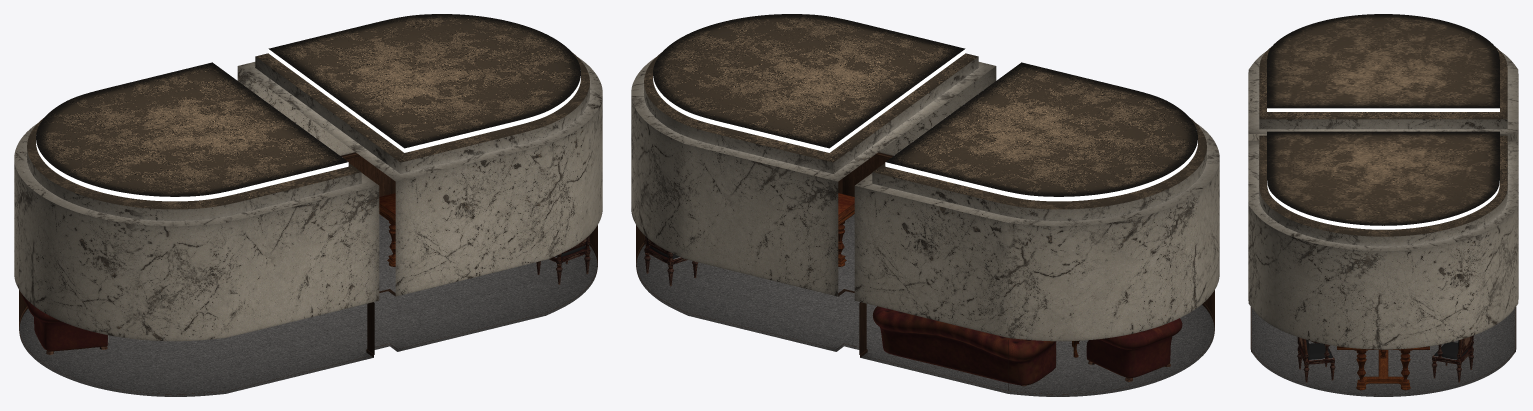
The model's file is 3_Room_high_1K_RL_300mW.gltf.
The picture shows the model from 3 angles, left to right: view 1: azimuth 30°, elevation 25°; view 2: azimuth 150°, elevation 25°; view 3: azimuth 270°, elevation 25°; orthographic projection. The views are drawn at different scales.
Visible parts, largest first — view 1: RoomShell, armchair01, chair01, Table02; view 2: RoomShell, Sofa01, armchair01, chair01, Table02; view 3: RoomShell, chair01, Table02.
Part boxes in pixels (bbox=[...]): RoomShell: bbox=[14, 14, 602, 396]; armchair01: bbox=[21, 294, 108, 354]; chair01: bbox=[536, 235, 590, 284]; Table02: bbox=[379, 193, 395, 266]; RoomShell: bbox=[631, 14, 1219, 396]; Sofa01: bbox=[872, 306, 1056, 386]; armchair01: bbox=[1086, 318, 1182, 381]; chair01: bbox=[644, 236, 698, 286]; Table02: bbox=[838, 193, 854, 266]; RoomShell: bbox=[1248, 14, 1518, 396]; chair01: bbox=[1297, 335, 1473, 382]; Table02: bbox=[1337, 346, 1429, 390].
Bounding box in the file's own units: 9.92 × 3.37 × 4.98.
Materials: 11 (10 with a texture image).
